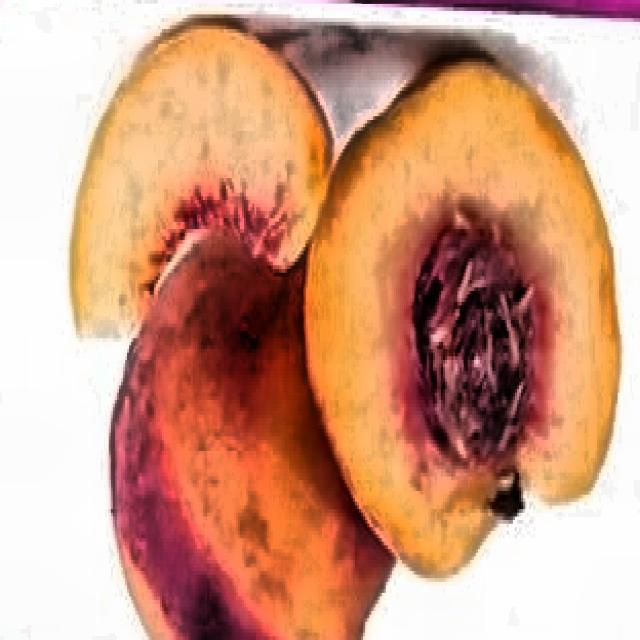Fruit: (78, 18, 640, 633)
